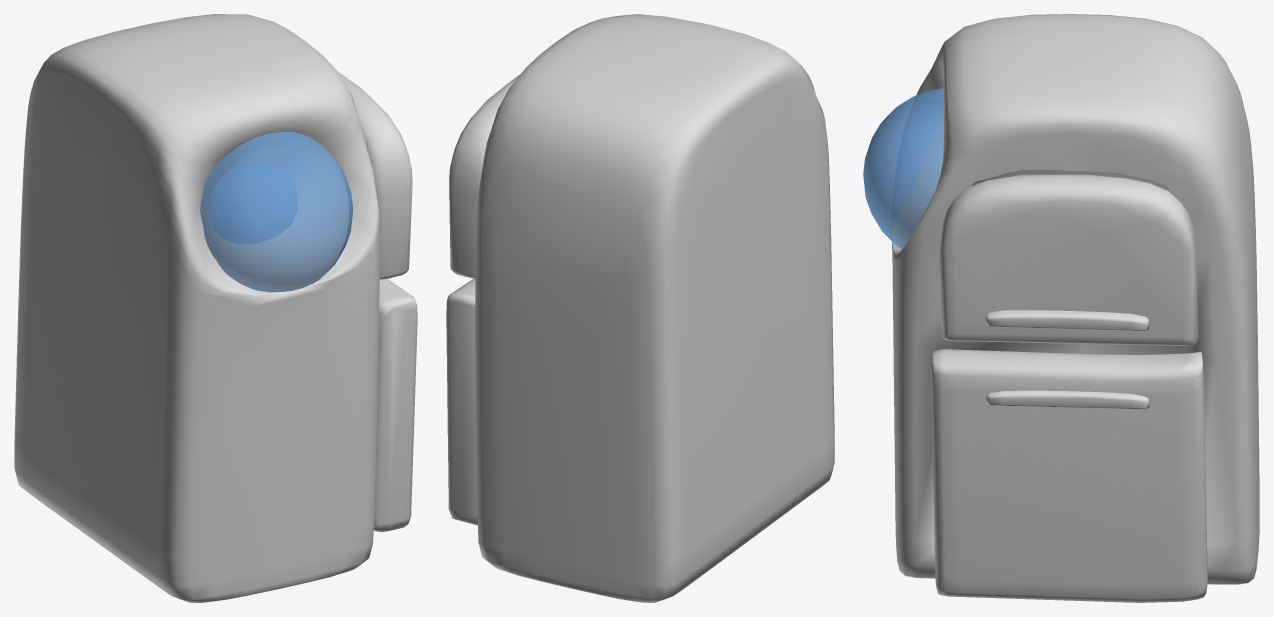
The model's file is heladera_close.glb.
3 renders of one model, left to right at view 1: azimuth 30°, elevation 25°; view 2: azimuth 150°, elevation 25°; view 3: azimuth 270°, elevation 25°, orthographic. The views are drawn at different scales.
Visible parts, largest first — view 1: heladera_closed; view 2: heladera_closed; view 3: heladera_closed.
Boxes of the visible parts, box(x1,y1,x2,y2) form: heladera_closed: box(14, 14, 417, 602); heladera_closed: box(446, 14, 834, 602); heladera_closed: box(863, 14, 1259, 602).
Size of what is drawn, in the model's own units: 2.15 by 3.66 by 2.68.
